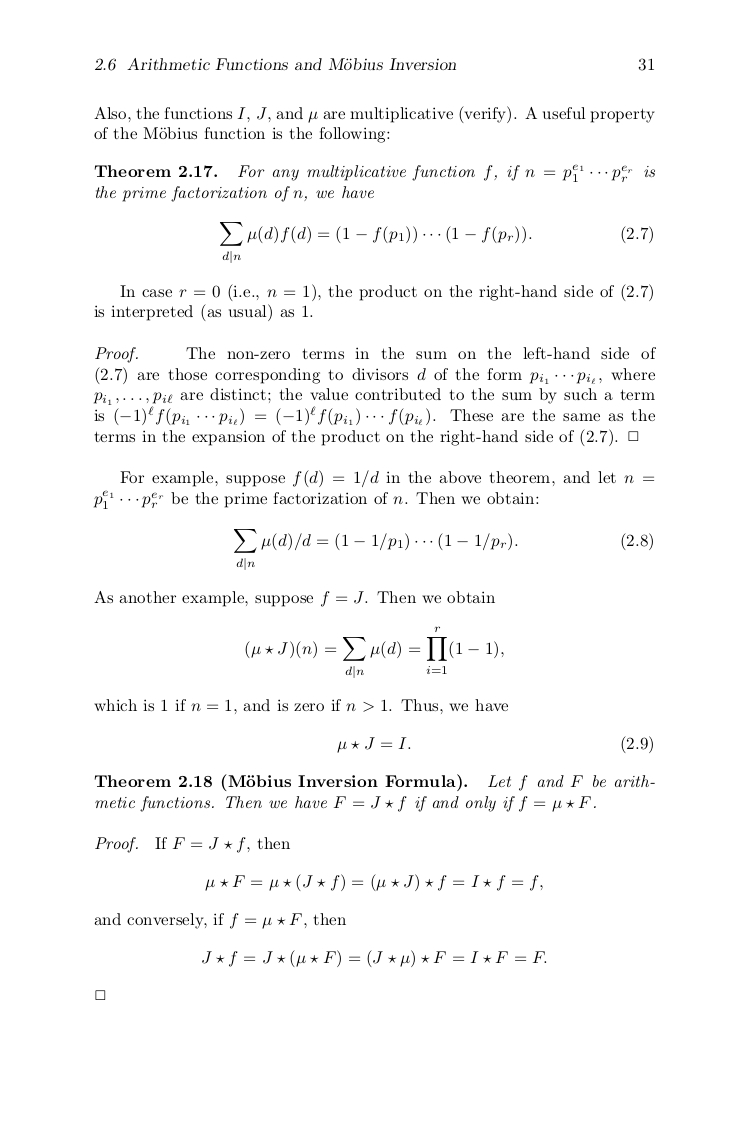formula: (220, 222, 652, 262), (234, 529, 652, 569), (245, 626, 503, 677), (202, 949, 546, 968), (205, 873, 542, 892), (337, 735, 652, 754)
